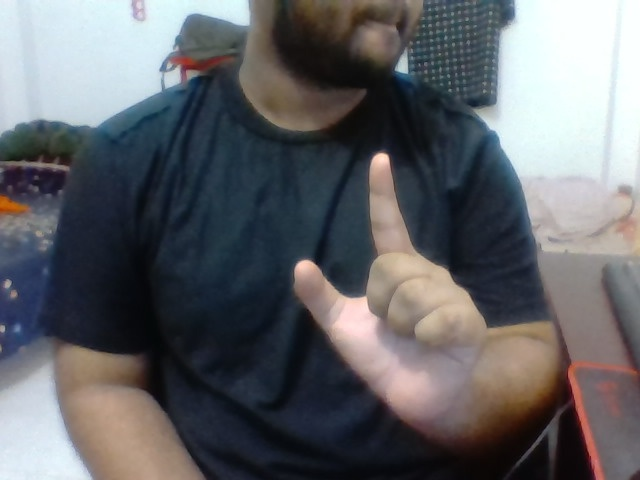J: (283, 144, 494, 411)
